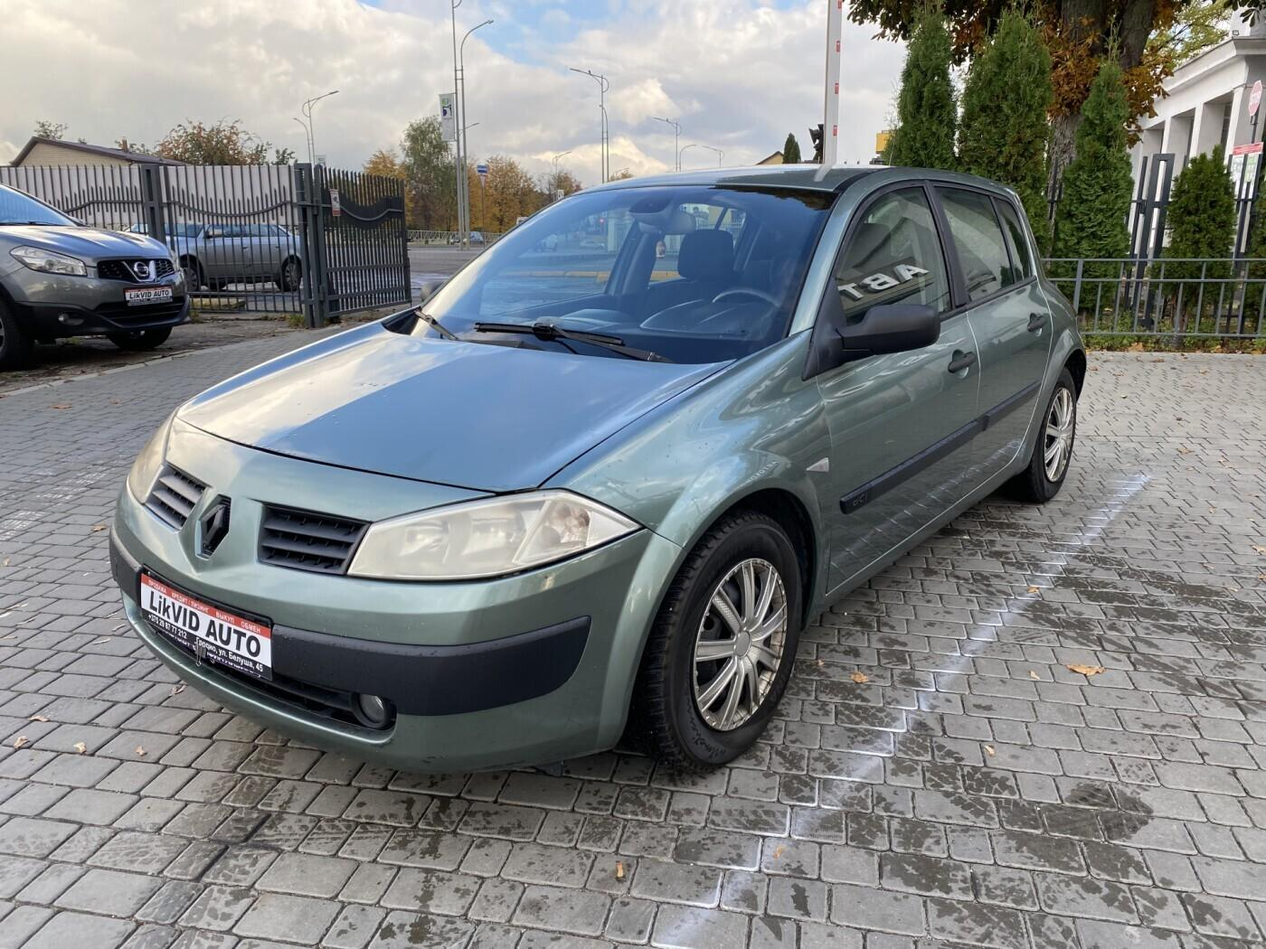Megane_2002-2006: (114, 155, 1097, 803)
